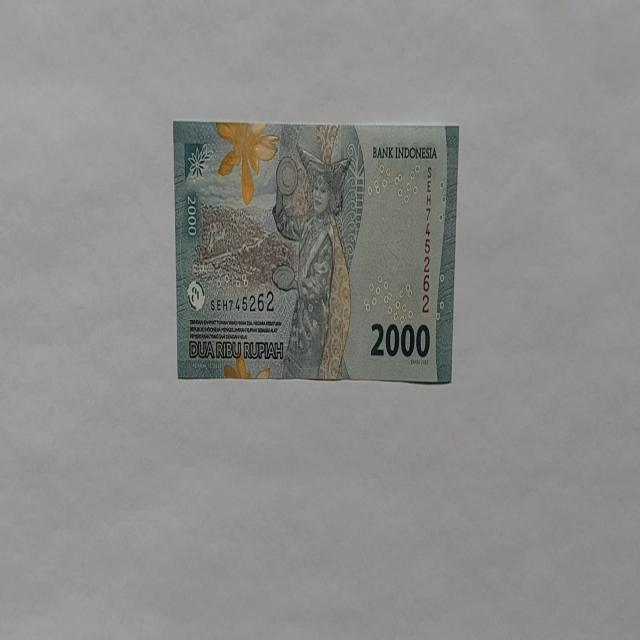dua ribu rupiah: (173, 121, 459, 384), (270, 144, 354, 380), (214, 120, 280, 206)
